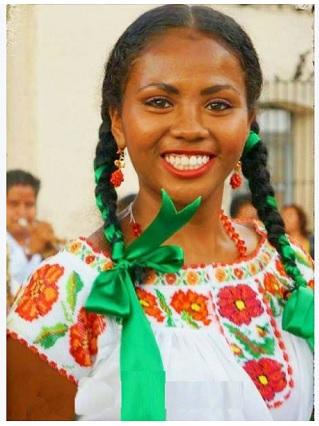person: (102, 1, 262, 209)
